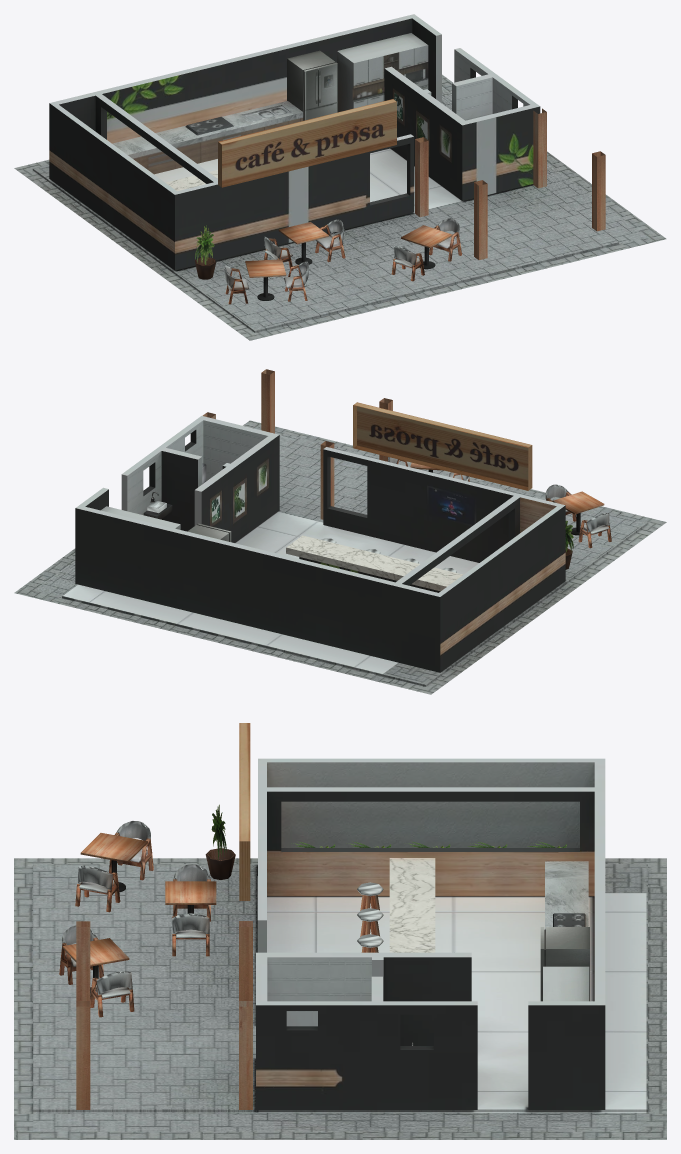
File: cafe-prosa.glb
The picture shows the model from 3 angles, top to bottom: view 1: azimuth 30°, elevation 25°; view 2: azimuth 150°, elevation 25°; view 3: azimuth 270°, elevation 25°; orthographic projection. The views are drawn at different scales.
Parts seen in each view (by area): view 1: Cafe; view 2: Cafe; view 3: Cafe.
Boxes of the visible parts, bbox=[...] form: Cafe: bbox=[14, 14, 666, 340]; Cafe: bbox=[14, 369, 666, 694]; Cafe: bbox=[14, 723, 666, 1139].
Bounding box in the file's own units: 19.76 × 5.6 × 19.36.
17 materials, 17 textured.
